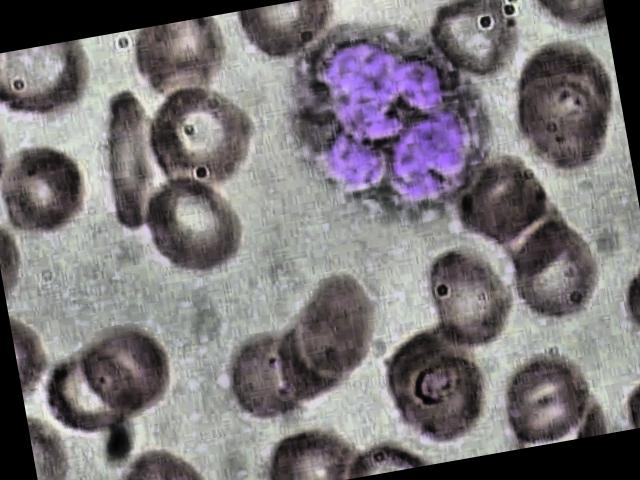RBC: (137, 72, 276, 198), (133, 172, 250, 288), (204, 321, 314, 433), (422, 237, 520, 356), (504, 221, 610, 330), (28, 342, 140, 444), (76, 322, 185, 426), (94, 90, 168, 242), (507, 32, 613, 138), (512, 78, 614, 186), (0, 136, 100, 245), (288, 268, 381, 382), (423, 0, 530, 85)
WBC: (263, 10, 508, 234)
